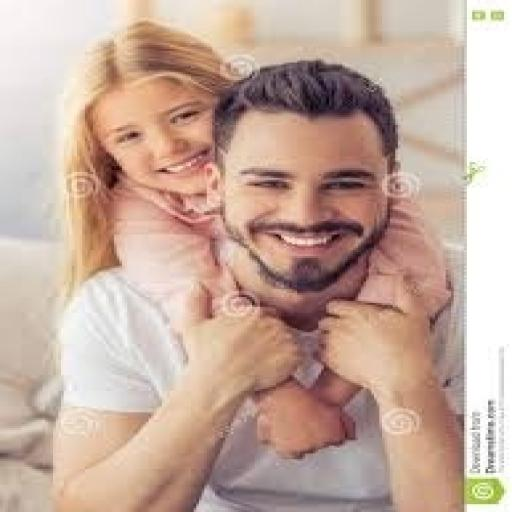hugging: (45, 20, 462, 510)
